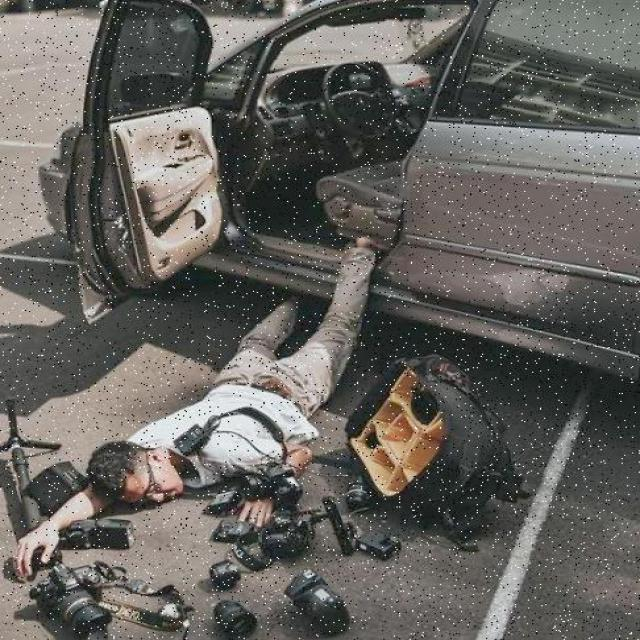fall: (88, 250, 387, 510)
